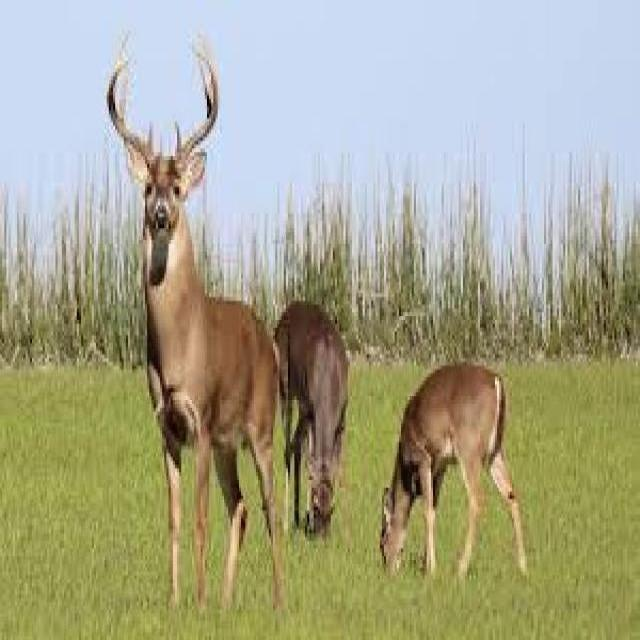deer: (102, 23, 284, 598), (374, 360, 532, 577), (278, 286, 349, 541)
